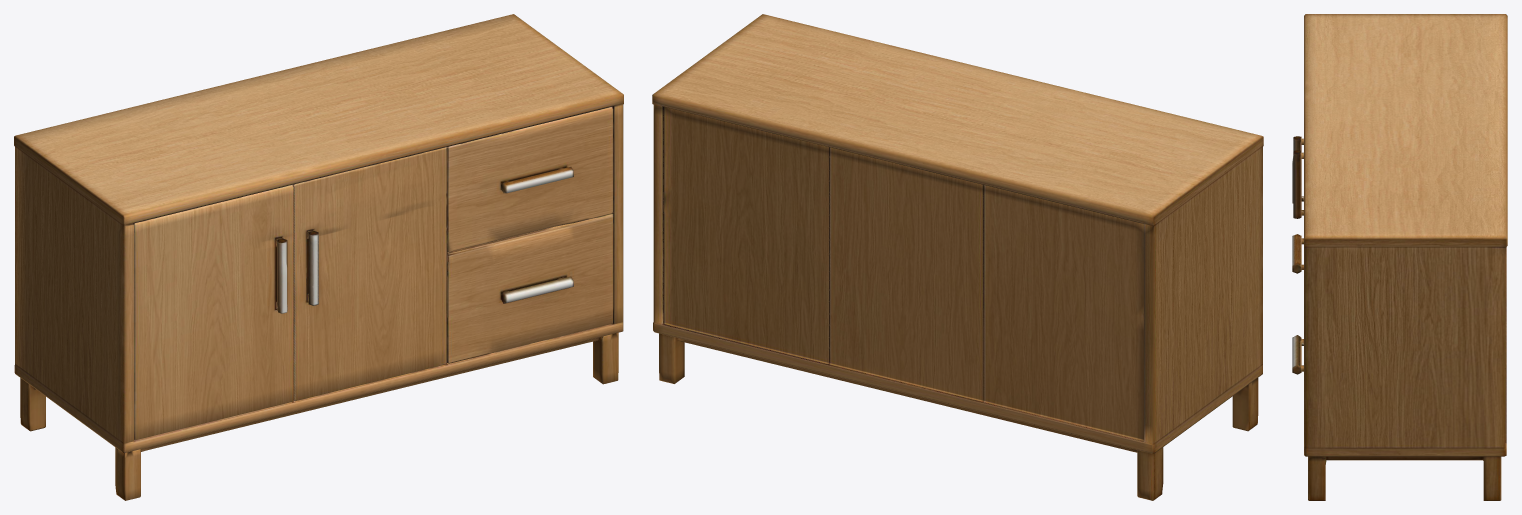
File: oak-sideboard-v1.glb
The picture shows the model from 3 angles, left to right: view 1: azimuth 30°, elevation 25°; view 2: azimuth 150°, elevation 25°; view 3: azimuth 270°, elevation 25°; orthographic projection. The views are drawn at different scales.
Visible parts, largest first — view 1: oak-sideboard-v1; view 2: oak-sideboard-v1; view 3: oak-sideboard-v1.
Boxes of the visible parts, <box> form: oak-sideboard-v1: <box>14,14,623,500</box>; oak-sideboard-v1: <box>652,14,1263,500</box>; oak-sideboard-v1: <box>1292,14,1507,500</box>.
Size of the model in its own units: 1.05 by 0.5774 by 0.4253.
1 material, 1 textured.
